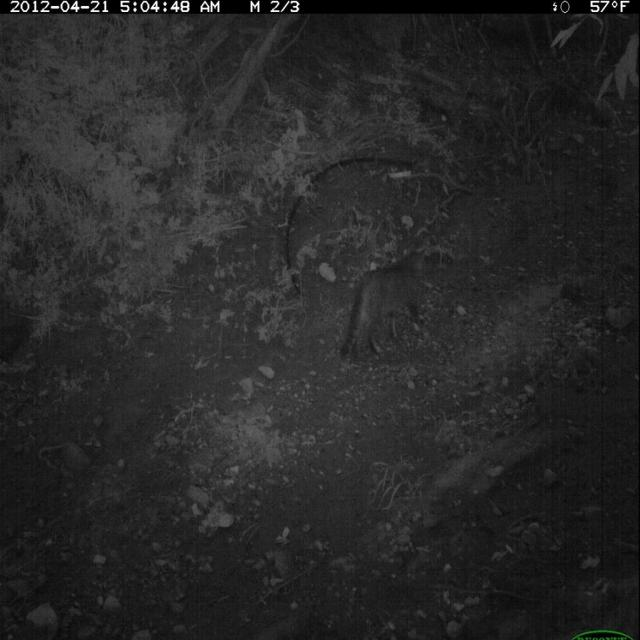cat: (337, 227, 444, 373)
